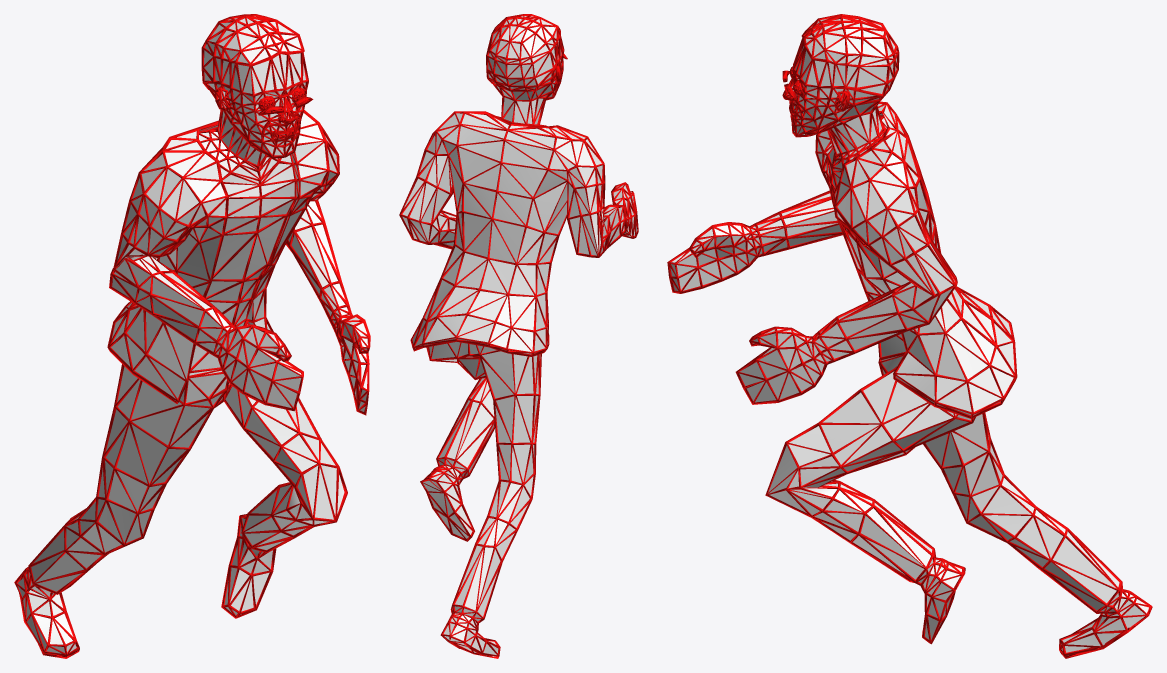
The model's file is elegantRun_000013.obj.
3 renders of one model, left to right at view 1: azimuth 30°, elevation 25°; view 2: azimuth 150°, elevation 25°; view 3: azimuth 270°, elevation 25°, orthographic. The views are drawn at different scales.
Visible parts, largest first — view 1: BaseHuman_Cylinder.002; view 2: BaseHuman_Cylinder.002; view 3: BaseHuman_Cylinder.002.
Part boxes in pixels (left/top/right/bottom): BaseHuman_Cylinder.002: left=14, top=14, right=370, bottom=658; BaseHuman_Cylinder.002: left=399, top=14, right=638, bottom=658; BaseHuman_Cylinder.002: left=667, top=14, right=1152, bottom=658.
Size of the model in its own units: 1.54 by 4.56 by 3.
